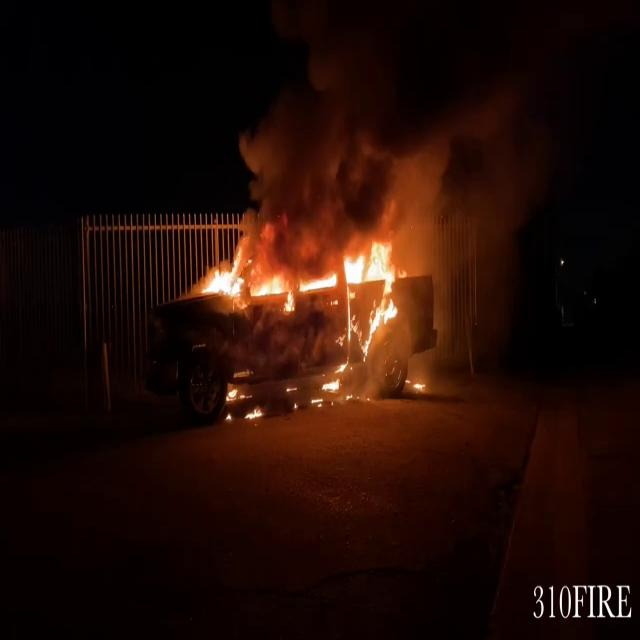Fire: (327, 236, 405, 398), (199, 248, 289, 307), (222, 378, 265, 422)
Smoke: (234, 34, 554, 262)
